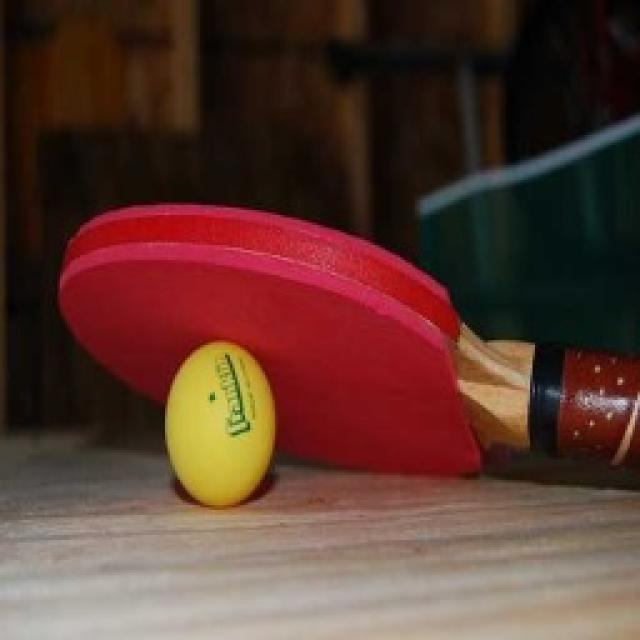oball: (165, 336, 278, 506)
